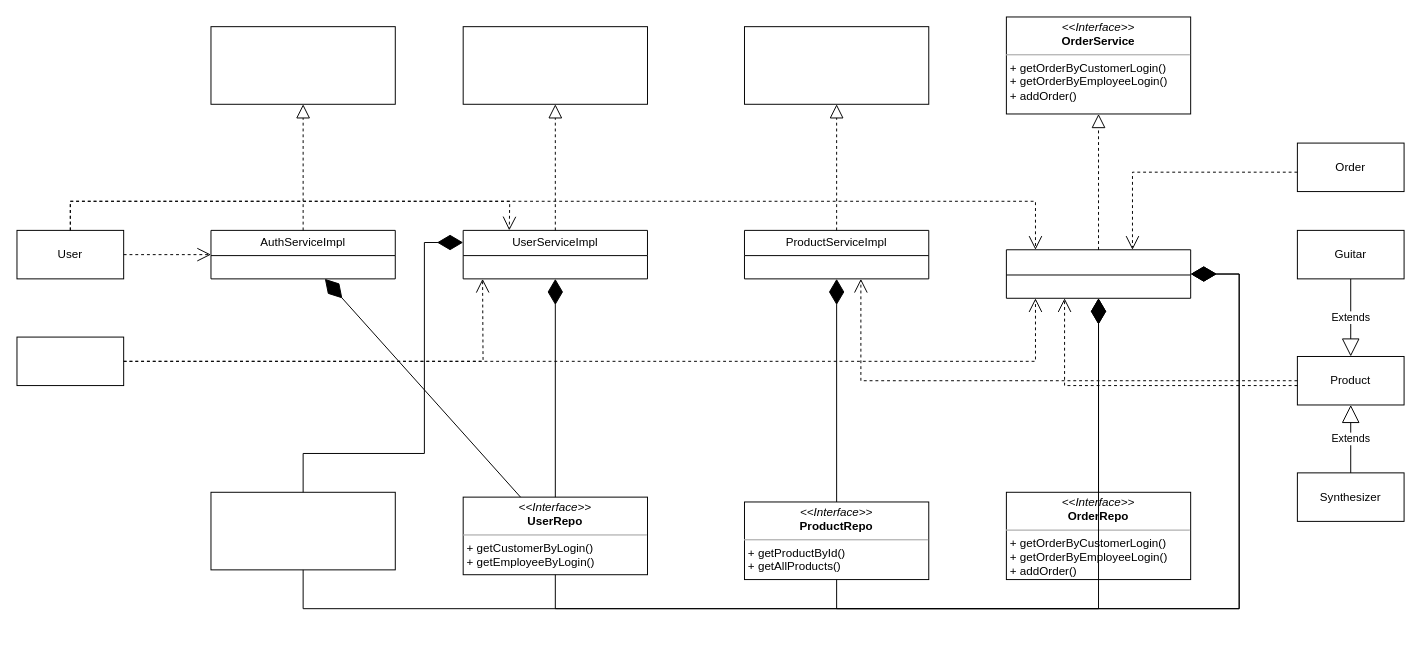
The diagram is 1421 pixels wide and 651 high, and some of its shapes have lost their labels. Here are the shapes that lost their labels. From the top down, the box of each, then its label:
(210, 26, 395, 104): <<Interface>> AuthService + login() + registration()
(462, 26, 647, 104): <<Interface>> UserService + getCustomerByLogin() + getEmployeeByLogin()
(744, 26, 929, 104): <<Interface>> ProductService + getProductById() + getAllProducts()
(1005, 249, 1191, 298): OrderServiceImpl
(16, 336, 124, 386): Card
(210, 491, 395, 570): <<Interface>> CardRepo + getCardByCustomerLogin() + updateCard()
